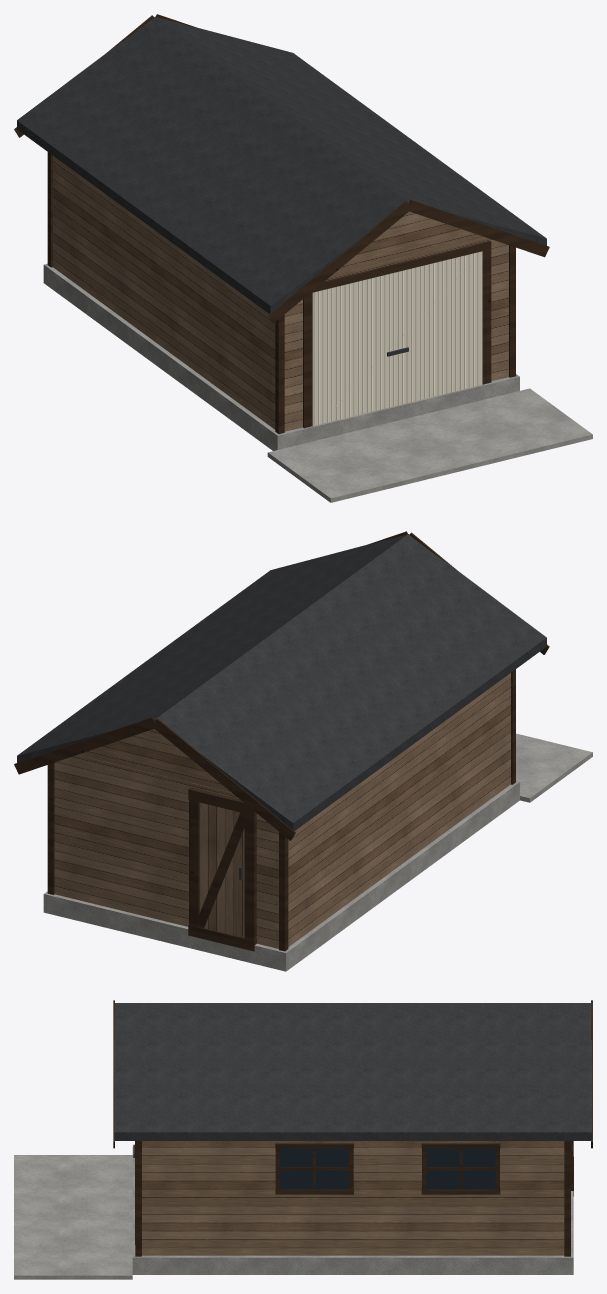
The model's file is timber-single-garage.glb.
3 renders of one model, top to bottom at view 1: azimuth 30°, elevation 25°; view 2: azimuth 150°, elevation 25°; view 3: azimuth 270°, elevation 25°, orthographic. The views are drawn at different scales.
Parts seen in each view (by area): view 1: Timber_Single_Garage; view 2: Timber_Single_Garage; view 3: Timber_Single_Garage.
Part boxes in pixels (<box>): Timber_Single_Garage: <box>14,14,592,502</box>; Timber_Single_Garage: <box>14,531,592,971</box>; Timber_Single_Garage: <box>14,1000,592,1279</box>.
Bounding box in the file's own units: 3.97 × 3.12 × 7.51.
8 materials, 6 textured.
